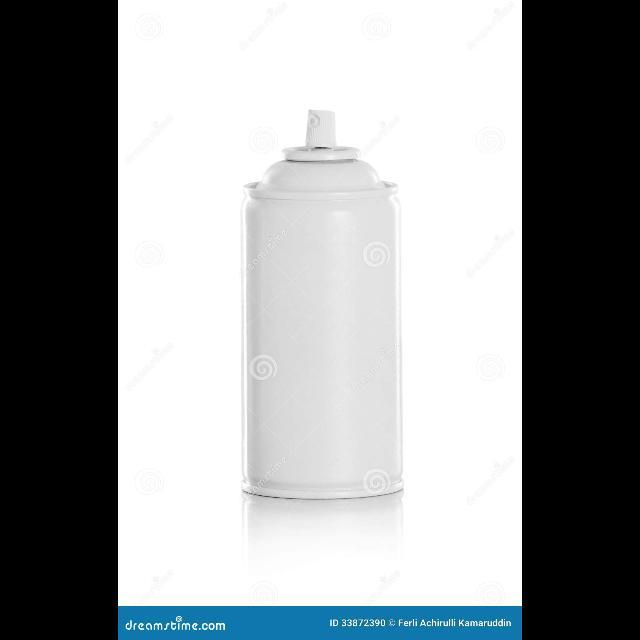chemical_spray_can: (215, 92, 429, 524)
